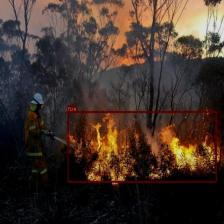fire: (67, 111, 217, 182)
